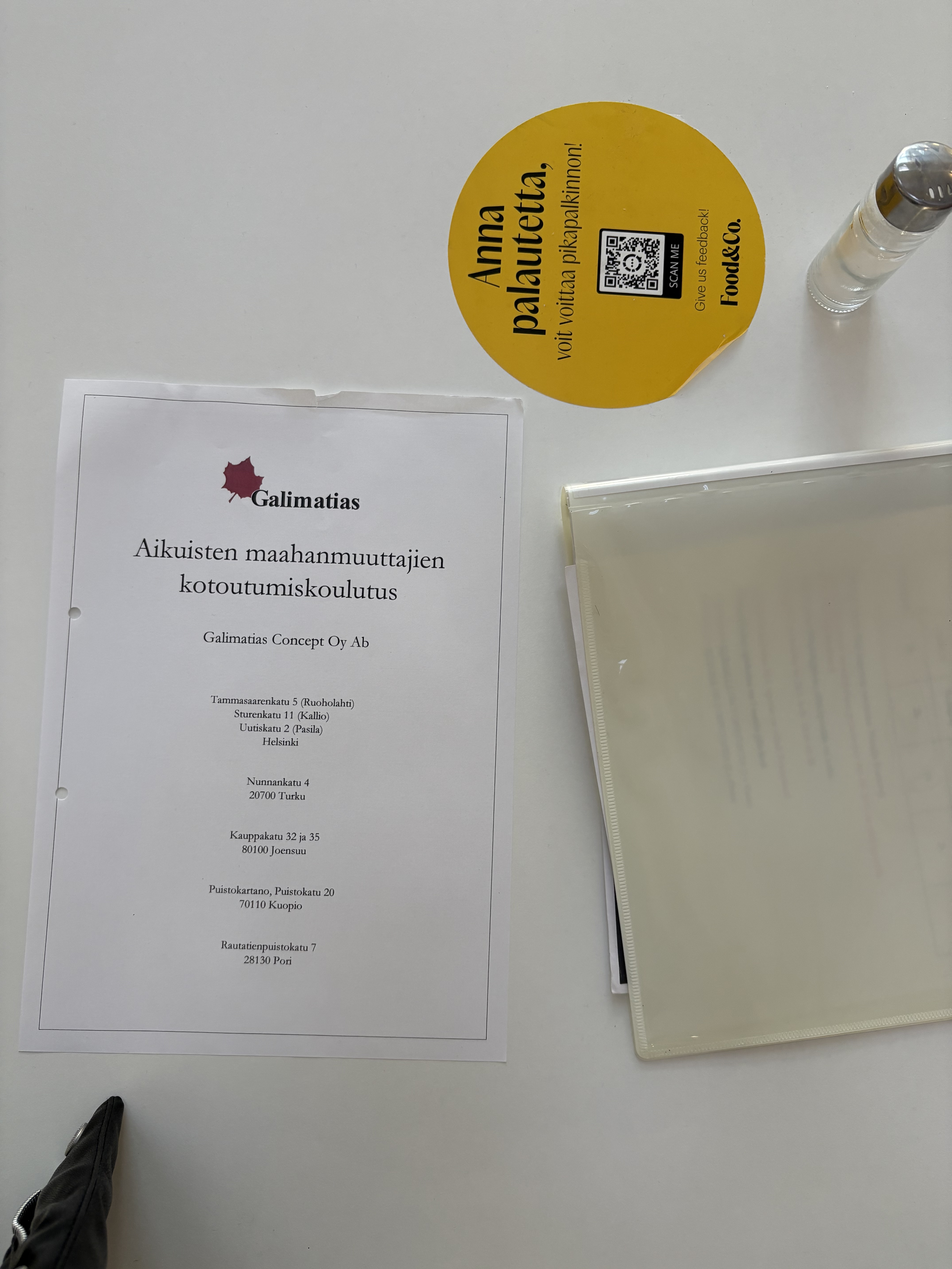paper: (14, 373, 525, 1056)
